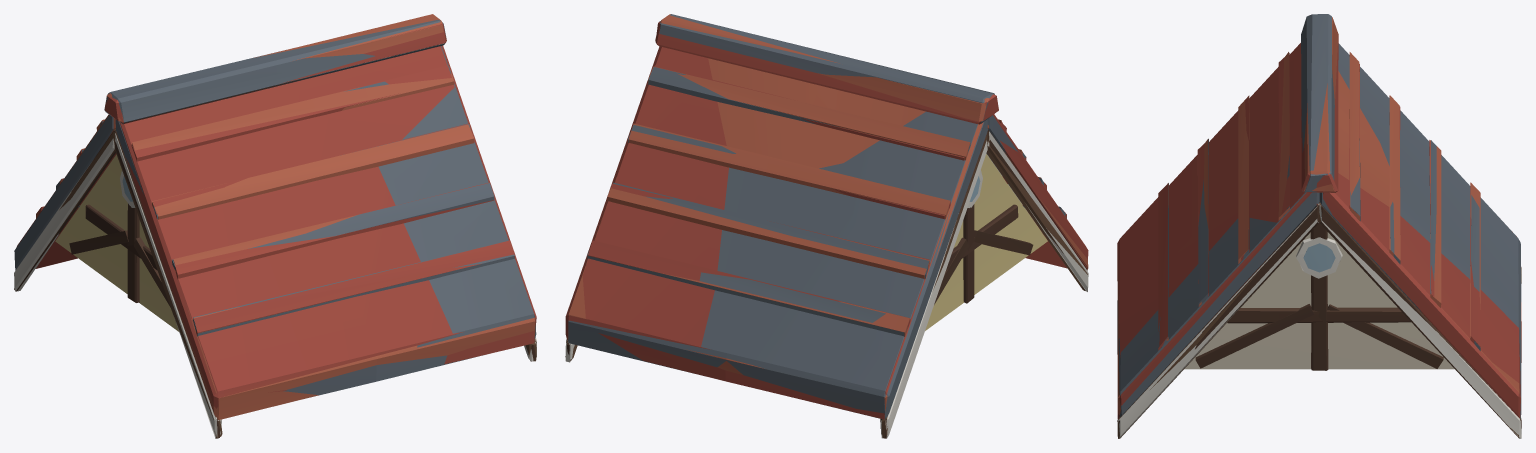
File: roof.gable.glb
3 views of the same model, side by side, from view 1: azimuth 30°, elevation 25°; view 2: azimuth 150°, elevation 25°; view 3: azimuth 270°, elevation 25° (orthographic).
Visible parts, largest first — view 1: roof.gable.v0.mesh, roof.gable.v1.mesh, roof.gable.v2.mesh; view 2: roof.gable.v1.mesh, roof.gable.v0.mesh, roof.gable.v2.mesh; view 3: roof.gable.v0.mesh, roof.gable.v1.mesh, roof.gable.v2.mesh.
Boxes of the visible parts, x1,y1,x2,y2 form: roof.gable.v0.mesh: (14, 23, 536, 438); roof.gable.v1.mesh: (14, 19, 536, 438); roof.gable.v2.mesh: (15, 14, 536, 437); roof.gable.v1.mesh: (567, 14, 1087, 437); roof.gable.v0.mesh: (565, 22, 1088, 438); roof.gable.v2.mesh: (565, 14, 1088, 438); roof.gable.v0.mesh: (1117, 34, 1521, 438); roof.gable.v1.mesh: (1117, 14, 1521, 438); roof.gable.v2.mesh: (1117, 17, 1521, 438).
Bounding box in the file's own units: 2.35 × 1.85 × 2.51.
